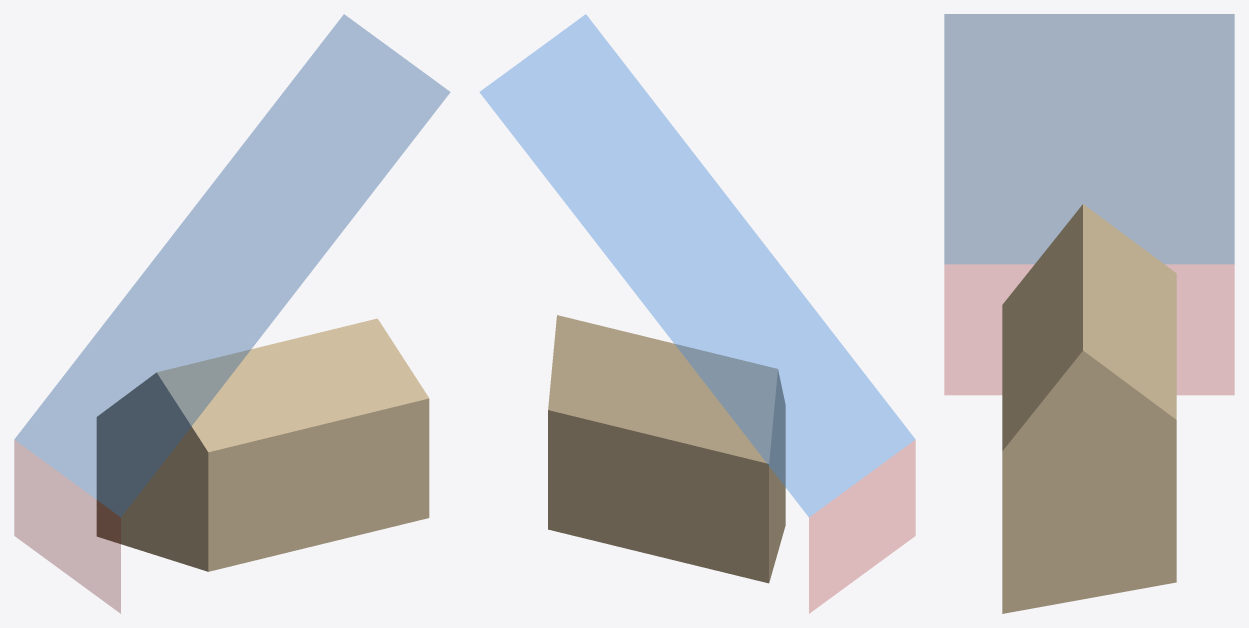
The model's file is recession_plane.glb.
3 views of the same model, side by side, from view 1: azimuth 30°, elevation 25°; view 2: azimuth 150°, elevation 25°; view 3: azimuth 270°, elevation 25° (orthographic). The views are drawn at different scales.
Parts seen in each view (by area): view 1: recession_plane, building, boundary_2.5m; view 2: recession_plane, building, boundary_2.5m; view 3: recession_plane, building, boundary_2.5m.
Boxes of the visible parts, box(x1,y1,x2,y2) form: recession_plane: box(14, 14, 449, 516); building: box(96, 318, 429, 571); boundary_2.5m: box(14, 440, 120, 613); recession_plane: box(480, 14, 915, 516); building: box(548, 315, 785, 583); boundary_2.5m: box(809, 440, 915, 613); recession_plane: box(944, 14, 1234, 263); building: box(1002, 204, 1176, 613); boundary_2.5m: box(944, 264, 1234, 394).
Bounding box in the file's own units: 8950 × 11450 × 5016.
